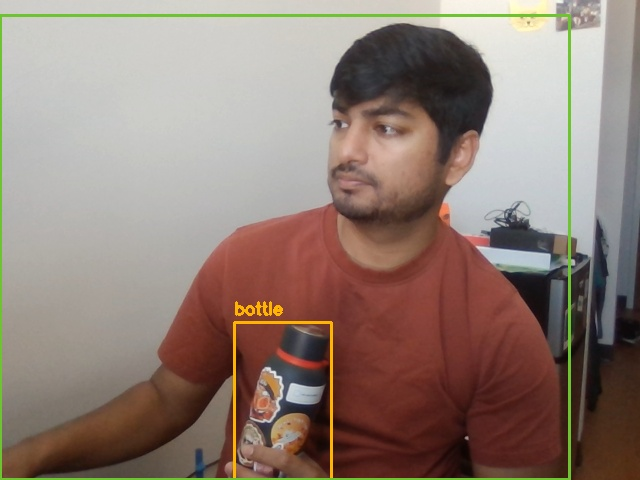bottle: (234, 322, 331, 480)
